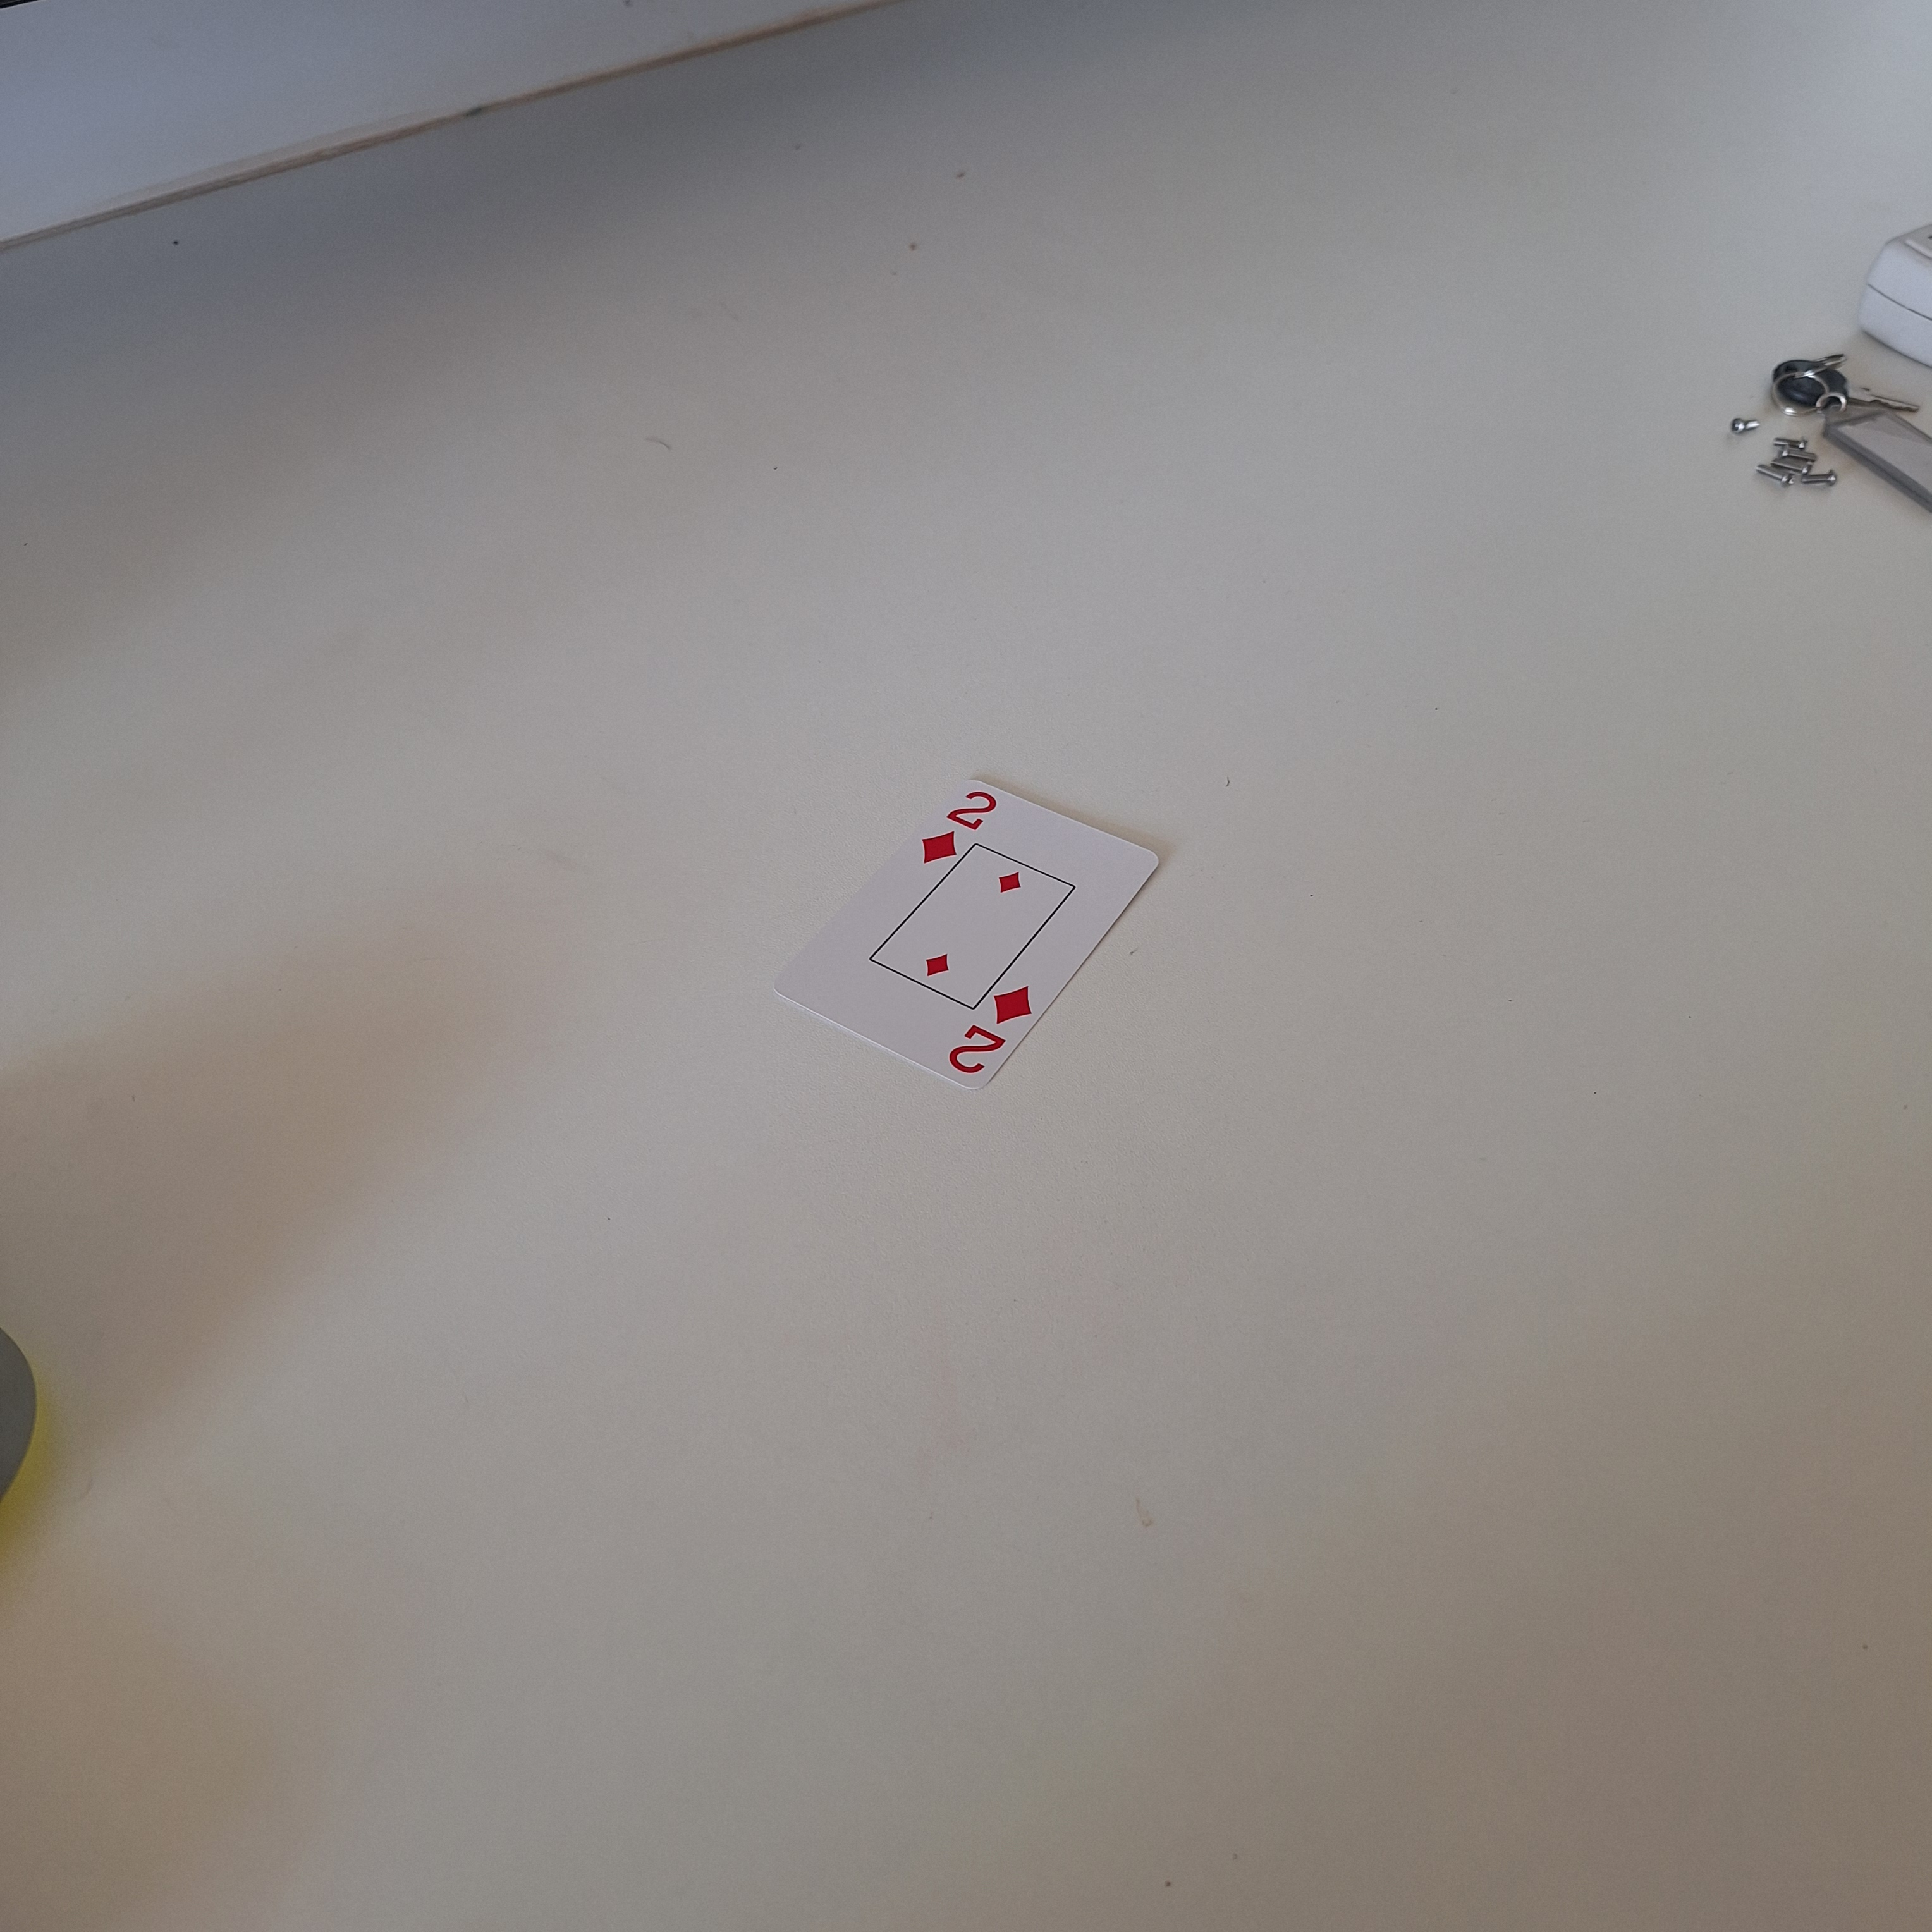2O: (936, 978, 1046, 1083), (913, 786, 1003, 869)
